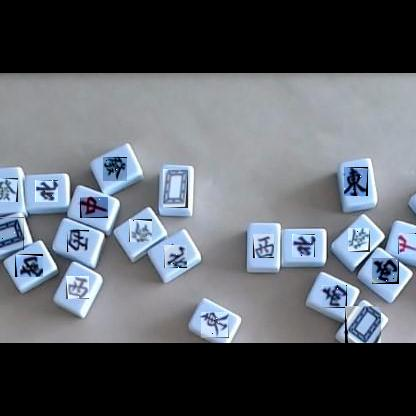1z: (201, 312, 229, 338), (344, 167, 368, 196)
2z: (372, 258, 399, 284), (15, 254, 43, 277), (322, 285, 347, 308)
3z: (66, 276, 89, 299), (253, 234, 274, 258), (67, 230, 89, 252)
4z: (292, 234, 315, 257), (164, 245, 187, 268), (35, 180, 58, 202)
5z: (345, 306, 381, 343), (163, 169, 188, 208), (0, 217, 24, 250)
6z: (103, 157, 127, 181), (129, 219, 152, 242), (348, 228, 370, 252), (0, 178, 18, 202)
7z: (80, 197, 108, 218), (398, 233, 416, 254)
